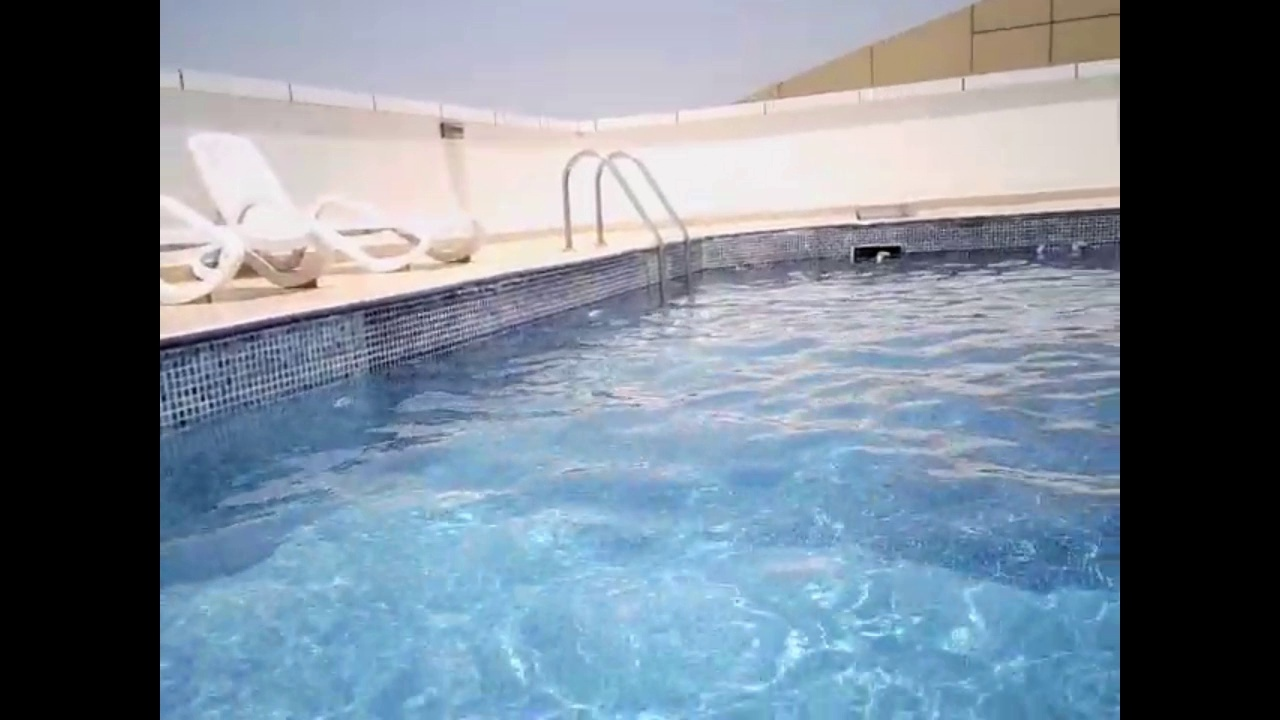debris: (1068, 238, 1096, 256), (1030, 239, 1051, 261), (872, 249, 895, 267)
